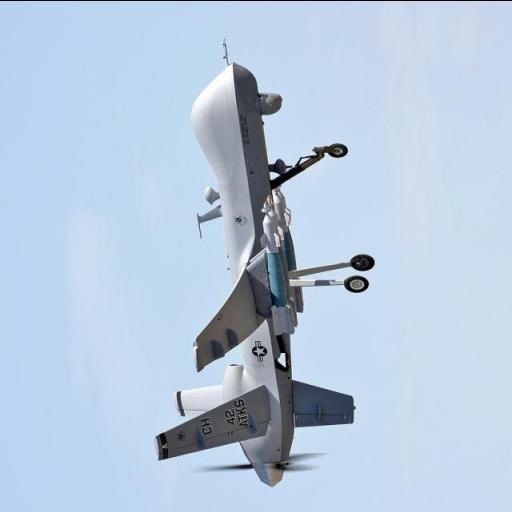uav: (154, 58, 356, 488)
